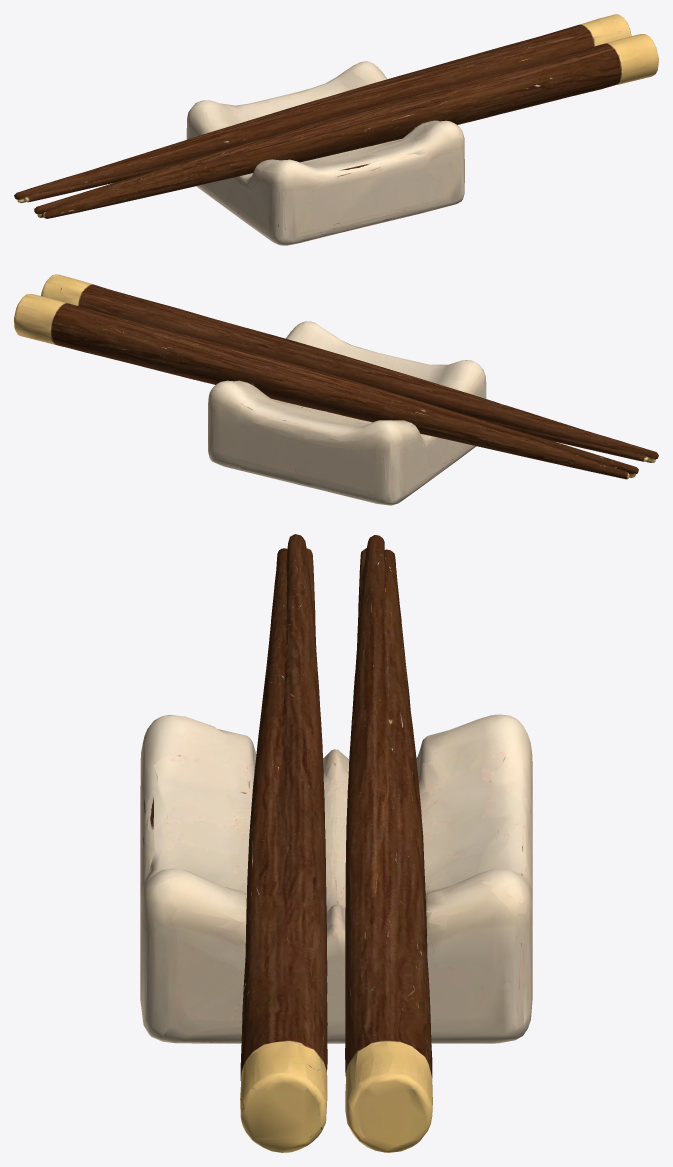
File: upm_mv3pqdu8582.glb
3 renders of one model, top to bottom at view 1: azimuth 30°, elevation 25°; view 2: azimuth 150°, elevation 25°; view 3: azimuth 270°, elevation 25°, orthographic. The views are drawn at different scales.
Bounding box in the file's own units: 1.9 × 0.2783 × 0.5285.
1 material, 1 textured.
